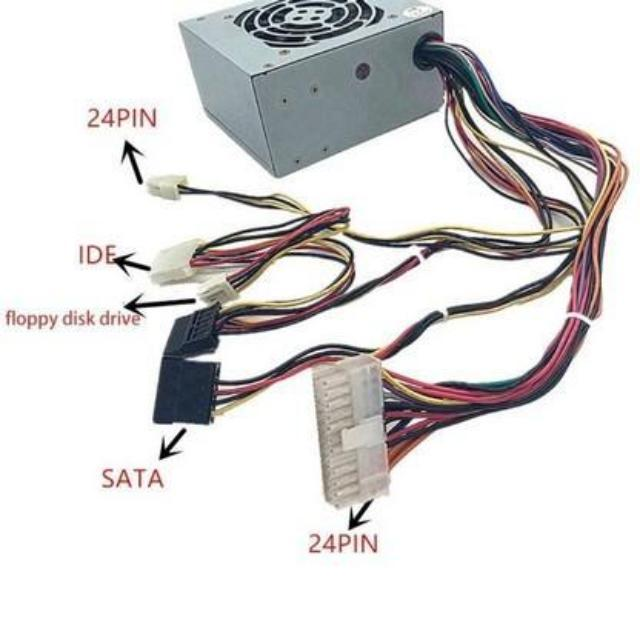PSU: (164, 0, 466, 180)
